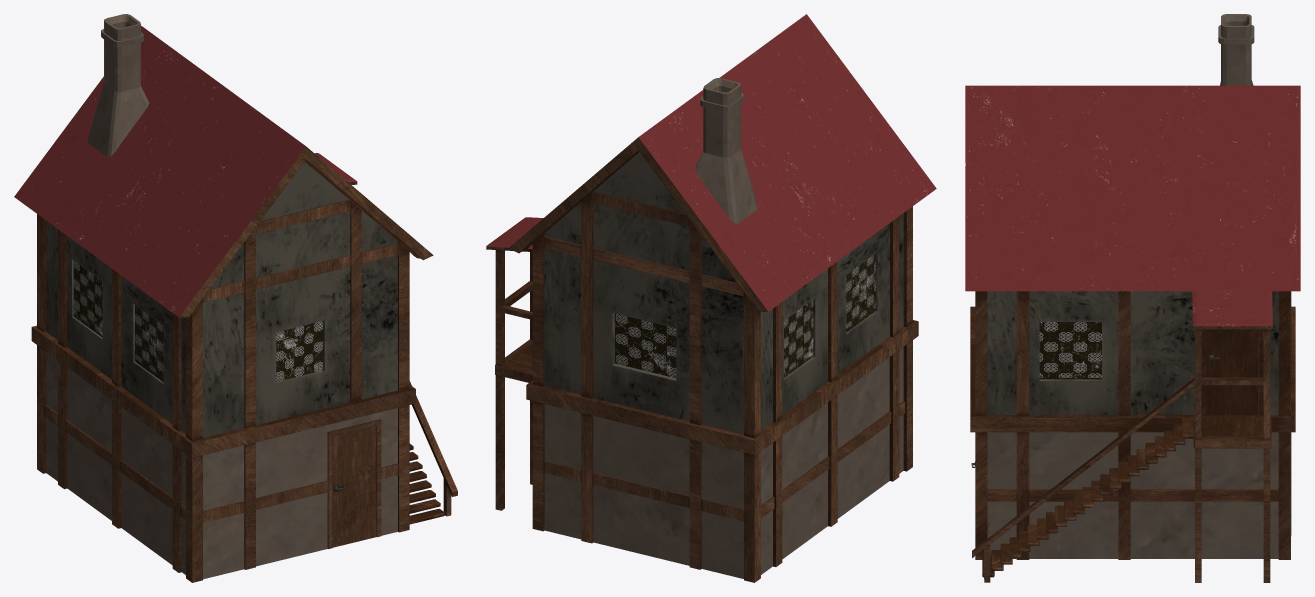
The model's file is timber.glb.
3 views of the same model, side by side, from view 1: azimuth 30°, elevation 25°; view 2: azimuth 150°, elevation 25°; view 3: azimuth 270°, elevation 25° (orthographic). The views are drawn at different scales.
Visible parts, largest first — view 1: Cube (×4), Cube.001 (×2), Cube.002, Door, Cube.008, Cube.013, Cube.007, Cube.019, Cube.017, Cube.009, Cube.018, Cube.014 (+7 smaller); view 2: Cube (×4), Cube.001 (×2), Cube.002, Cube.005, Cube.009, Cube.016, Cube.015, Cube.010, Cube.019, Cube.017, Cube.018, Cube.008 (+5 smaller); view 3: Cube.001, Cube (×4), Cube.005, Cube.004, Door.001, Cube.010, Cube.007, Cube.024, Cube.003, Cube.023, Cube.021, Cube.002 (+1 smaller).
Part boxes in pixels (x1,y1,x2,y2): Cube (×4): (31, 161, 415, 579); Cube.001 (×2): (14, 26, 433, 317); Cube.002: (88, 14, 148, 156); Door: (332, 425, 376, 547); Cube.008: (186, 298, 202, 582); Cube.013: (244, 227, 255, 569); Cube.007: (398, 241, 409, 532); Cube.019: (172, 313, 181, 572); Cube.017: (58, 229, 67, 489); Cube.009: (37, 214, 46, 473); Cube.018: (112, 269, 121, 528); Cube.014: (350, 201, 361, 402); Cube (×4): (526, 152, 918, 578); Cube.001 (×2): (508, 14, 936, 311); Cube.002: (695, 78, 757, 223); Cube.005: (495, 250, 532, 510); Cube.009: (744, 292, 760, 582); Cube.016: (581, 192, 593, 543); Cube.015: (689, 219, 701, 569); Cube.010: (532, 233, 544, 531); Cube.019: (889, 216, 899, 481); Cube.017: (773, 302, 782, 566); Cube.018: (828, 261, 837, 526); Cube.008: (903, 206, 912, 471); Cube.001: (965, 85, 1300, 291); Cube (×4): (970, 291, 1295, 558); Cube.005: (972, 329, 1271, 582); Cube.004: (982, 418, 1193, 577); Door.001: (1206, 329, 1258, 415); Cube.010: (1278, 291, 1290, 559); Cube.007: (975, 291, 987, 559); Cube.024: (1016, 291, 1029, 559); Cube.003: (1192, 291, 1272, 326); Cube.023: (1118, 291, 1130, 559); Cube.021: (987, 489, 1278, 501); Cube.002: (1218, 14, 1254, 85).
Size of the model in its own units: 5.48 by 8.16 by 5.38.
Materials: 6 (6 with a texture image).
